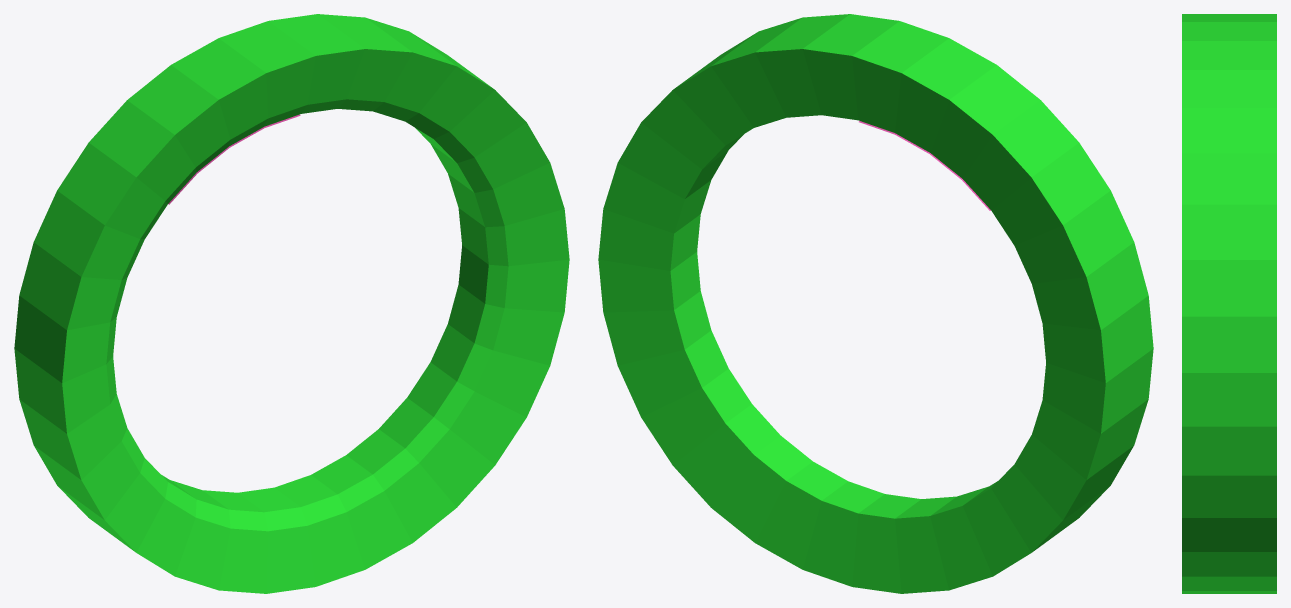
File: ring.glb
The picture shows the model from 3 angles, left to right: view 1: azimuth 30°, elevation 25°; view 2: azimuth 150°, elevation 25°; view 3: azimuth 270°, elevation 25°; orthographic projection.
Visible parts, largest first — view 1: ring; view 2: ring; view 3: ring.
Part boxes in pixels (left/top/right/bottom): ring: left=14, top=14, right=569, bottom=593; ring: left=598, top=14, right=1153, bottom=593; ring: left=1182, top=14, right=1276, bottom=593.
Size of the model in its own units: 5.4 by 5.4 by 0.8813.
